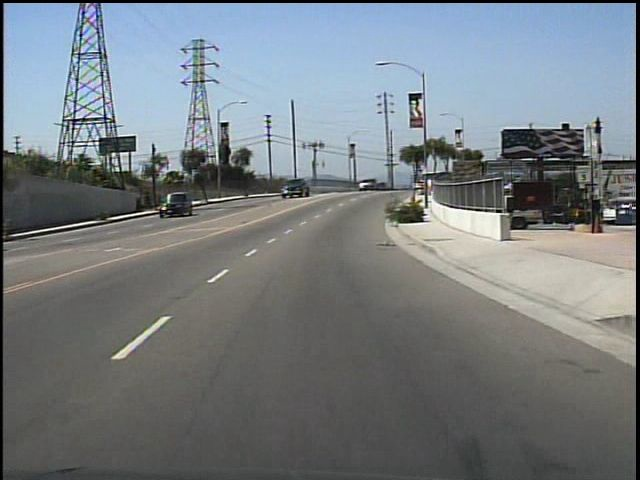person: (427, 175, 433, 199)
